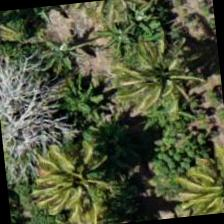Kelapa_Sawit: (103, 29, 202, 128), (25, 140, 125, 223), (173, 150, 223, 217)
